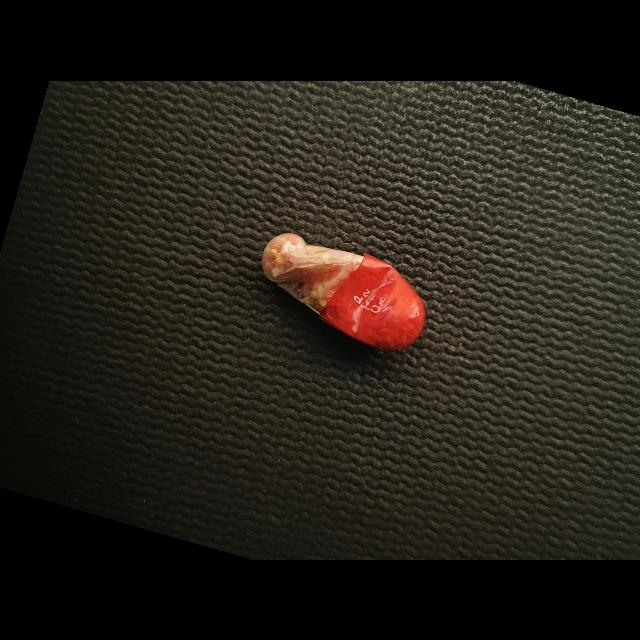Defective Capsule: (262, 232, 425, 350)
